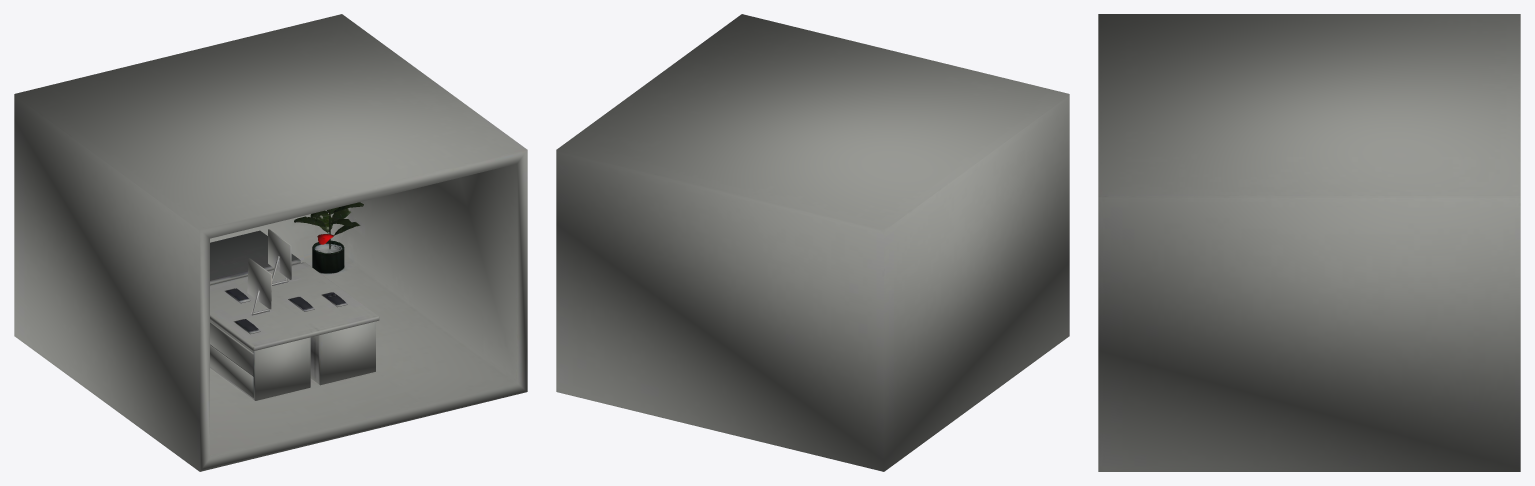
Rendered from original_glb.glb.
The picture shows the model from 3 angles, left to right: view 1: azimuth 30°, elevation 25°; view 2: azimuth 150°, elevation 25°; view 3: azimuth 270°, elevation 25°; orthographic projection. The views are drawn at different scales.
Visible parts, largest first — view 1: Corporate office; view 2: Corporate office; view 3: Corporate office.
Boxes of the visible parts, left/top/right/bottom form: Corporate office: left=14, top=14, right=527, bottom=471; Corporate office: left=556, top=14, right=1069, bottom=471; Corporate office: left=1098, top=14, right=1520, bottom=471.
Size of the model in its own units: 0.998 by 0.7051 by 0.9785.
1 material, 1 textured.
